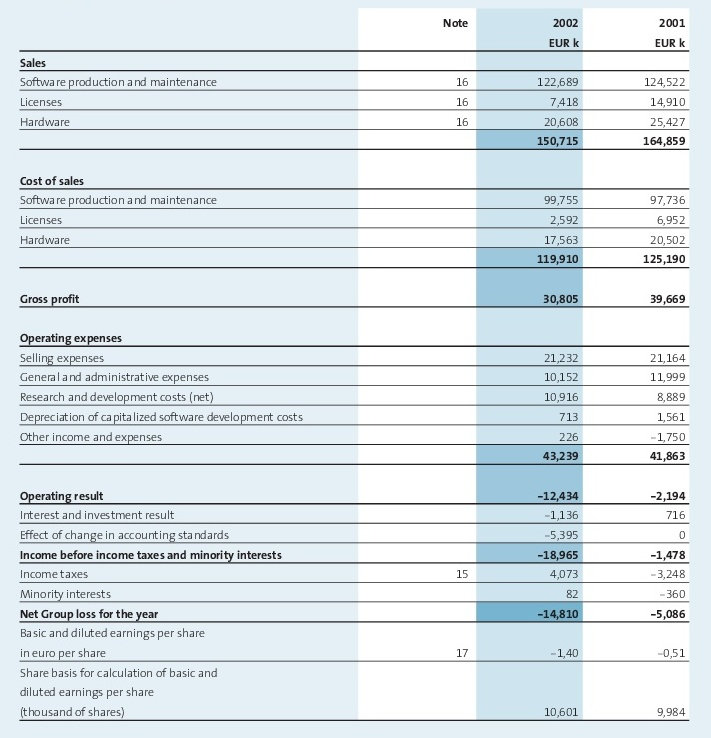table: (0, 0, 711, 738)
